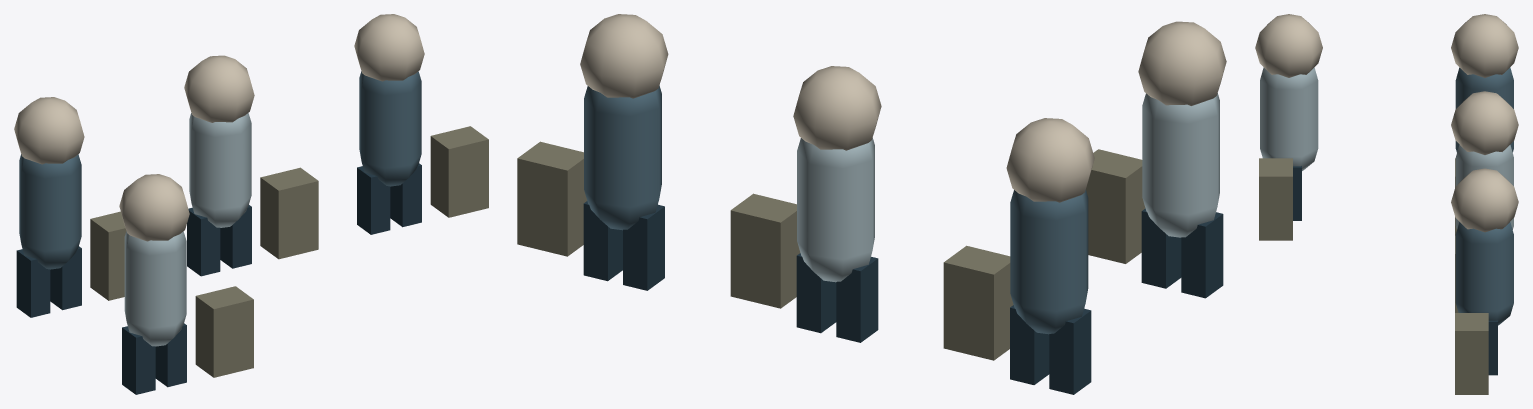
Rendered from passengers-4.glb.
3 renders of one model, left to right at view 1: azimuth 30°, elevation 25°; view 2: azimuth 150°, elevation 25°; view 3: azimuth 270°, elevation 25°, orthographic. The views are drawn at different scales.
Parts seen in each view (by area): view 1: passengers-4; view 2: passengers-4; view 3: passengers-4.
Part boxes in pixels (x1,y1,x2,y2): passengers-4: [14, 14, 488, 394]; passengers-4: [517, 14, 1226, 394]; passengers-4: [1255, 14, 1518, 394].
Size of the model in its own units: 3.74 by 1.62 by 2.02.
